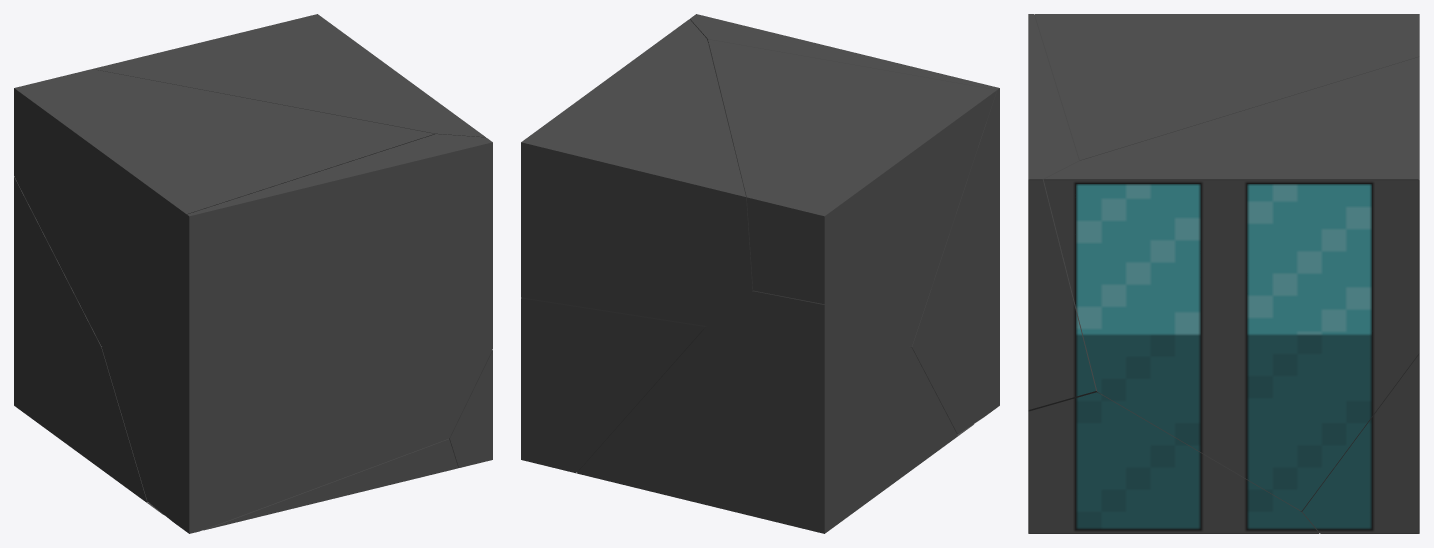
The model's file is GlassBuildingV128x128_Floor01_break.fbx.
The picture shows the model from 3 angles, left to right: view 1: azimuth 30°, elevation 25°; view 2: azimuth 150°, elevation 25°; view 3: azimuth 270°, elevation 25°; orthographic projection. The views are drawn at different scales.
Parts seen in each view (by area): view 1: Floor01Break05, Floor01Break01, Floor01Break02, Floor01Break07, Floor01Break03, Floor01Break04; view 2: Floor01Break01, Floor01Break07, Floor01Break02, Floor01Break05, Floor01Break06; view 3: Floor01Break02, Floor01Break01, Floor01Break04, Floor01Break05, Floor01Break06.
Part boxes in pixels (x1,y1,x2,y2): Floor01Break05: (101,134,492,533); Floor01Break01: (14,69,434,346); Floor01Break02: (93,14,485,137); Floor01Break07: (14,176,147,502); Floor01Break03: (147,439,458,530); Floor01Break04: (449,350,492,467); Floor01Break01: (708,39,996,346); Floor01Break07: (576,291,957,533); Floor01Break02: (521,19,752,330); Floor01Break05: (690,14,999,434); Floor01Break06: (521,298,704,473); Floor01Break02: (1043,57,1419,510); Floor01Break01: (1034,14,1419,160); Floor01Break04: (1028,392,1319,533); Floor01Break05: (1028,14,1100,411); Floor01Break06: (1300,353,1419,533).
Size of the model in its own units: 100 by 100 by 100.
Materials: 1 (1 with a texture image).
